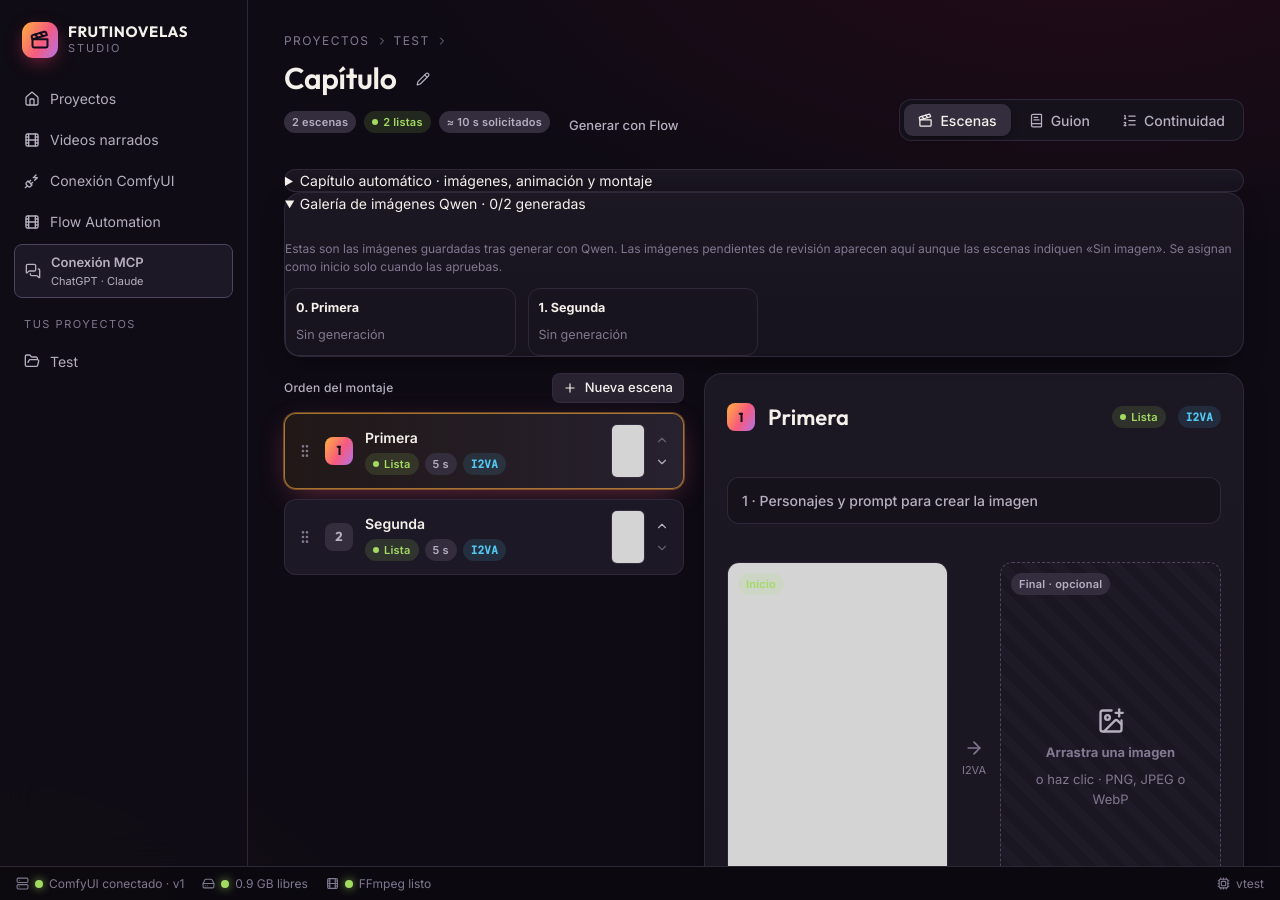
leaving the scene cancels its pending progress read
Click the button with id "tab-guion" at (1059,120), box [1015,104,1104,136]
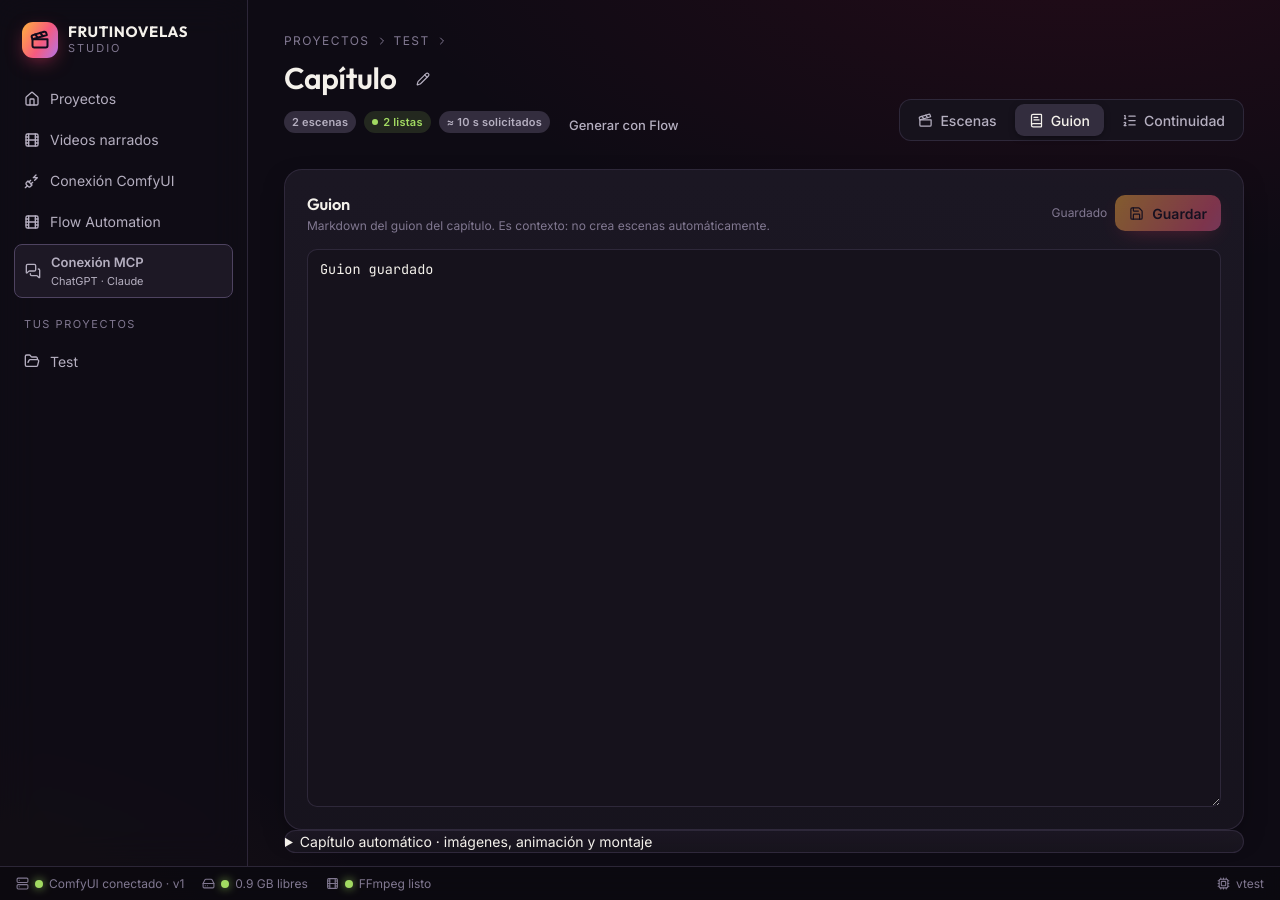
Expected: the text box showing "Guion guardado" is shown, [307,249,1221,807]
